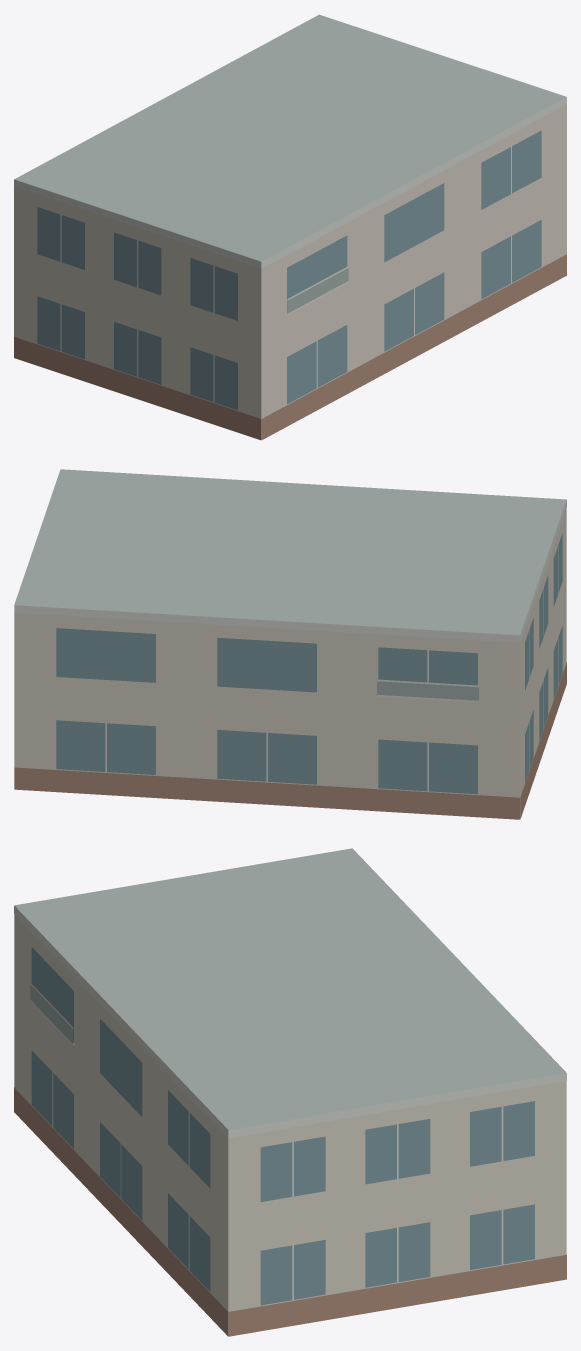
The model's file is survey-upis-32962968.glb.
3 renders of one model, top to bottom at view 1: azimuth 30°, elevation 25°; view 2: azimuth 150°, elevation 25°; view 3: azimuth 270°, elevation 25°, orthographic. The views are drawn at different scales.
Parts seen in each view (by area): view 1: survey-upis-32962968.tmp; view 2: survey-upis-32962968.tmp; view 3: survey-upis-32962968.tmp.
Part boxes in pixels (x1,y1,x2,y2): survey-upis-32962968.tmp: (14, 14, 566, 440); survey-upis-32962968.tmp: (14, 469, 566, 819); survey-upis-32962968.tmp: (14, 848, 566, 1336).
Size of the model in its own units: 17.84 by 6.1 by 14.79.
